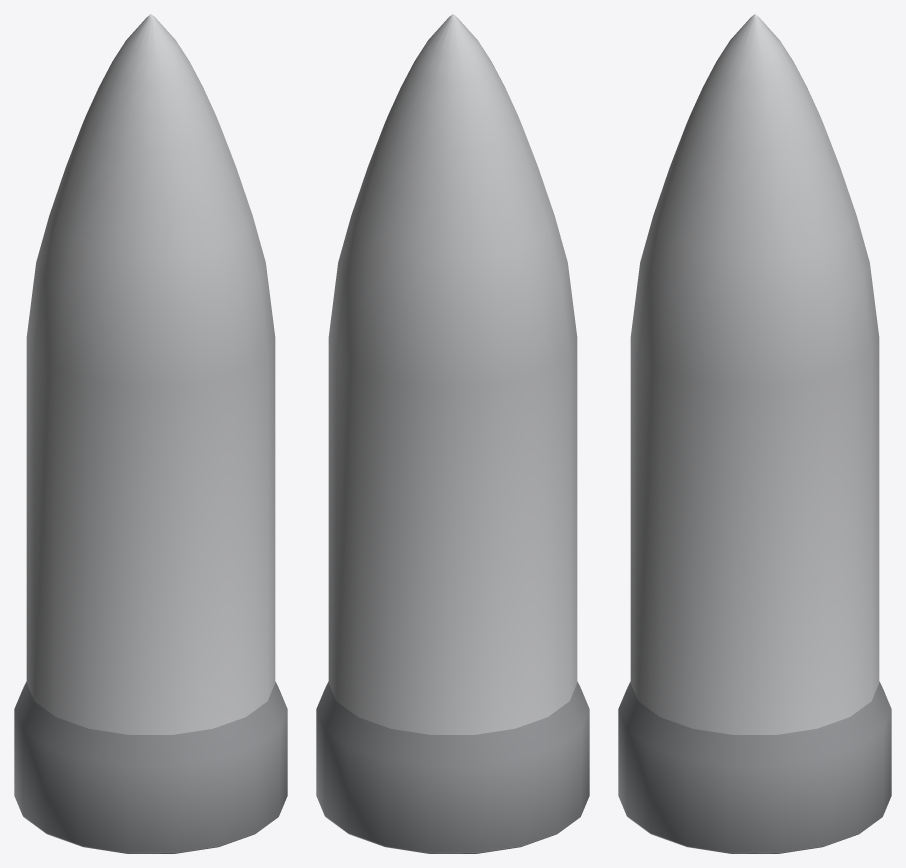
Rendered from Bullet.fbx.
3 renders of one model, left to right at view 1: azimuth 30°, elevation 25°; view 2: azimuth 150°, elevation 25°; view 3: azimuth 270°, elevation 25°, orthographic.
Parts seen in each view (by area): view 1: Bullet; view 2: Bullet; view 3: Bullet.
Boxes of the visible parts, x1,y1,x2,y2 form: Bullet: (14,14,287,853); Bullet: (316,14,589,853); Bullet: (618,14,891,853).
Bounding box in the file's own units: 1.56 × 5.02 × 1.59.
1 material, 1 textured.
